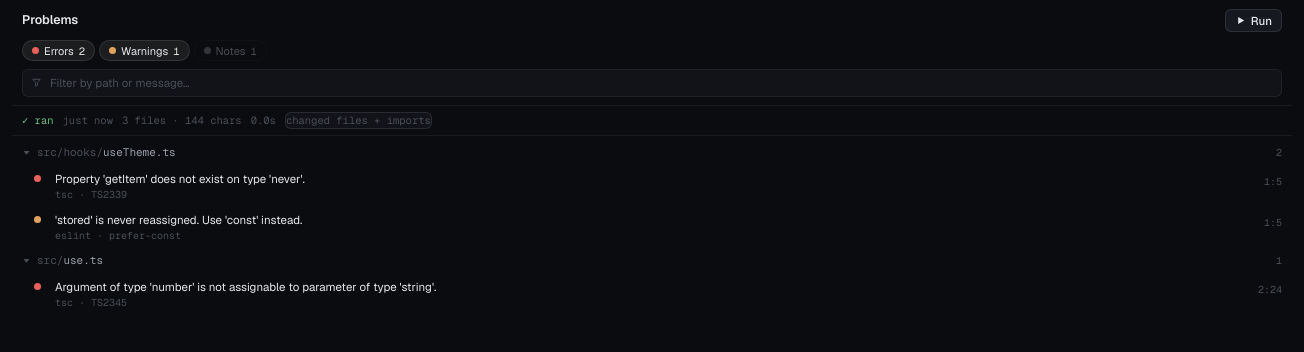
Test: ProblemsPanel › G-TOOL-7 — the chips count problems, never notes; notes are off by default and toggle on
Expected: the list is shown, [12,140,1292,315]
Expected: the text "coverage note" is not shown
Click the button "Notes 1" at (230,50), box [194,40,267,61]
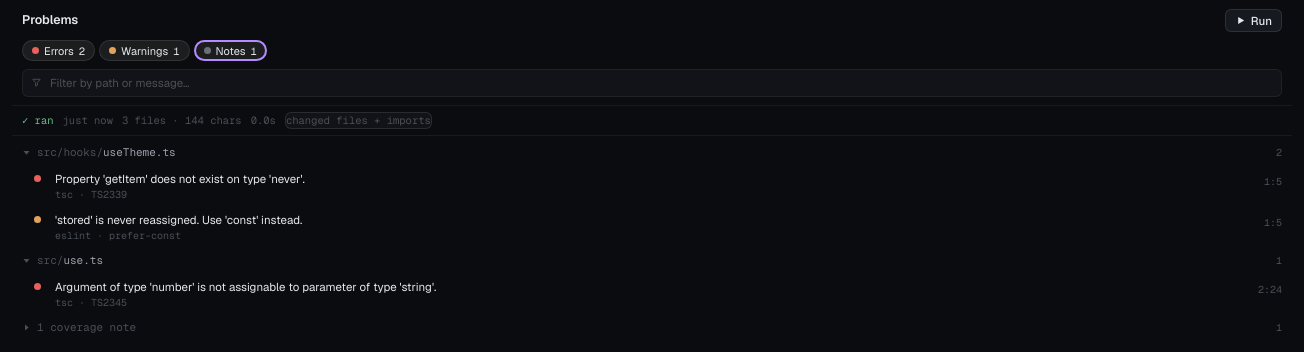
Expected: the text "1 coverage note" is shown, [37,320,136,336]
Click the button "Errors 2" at (58,50), box [22,40,95,61]
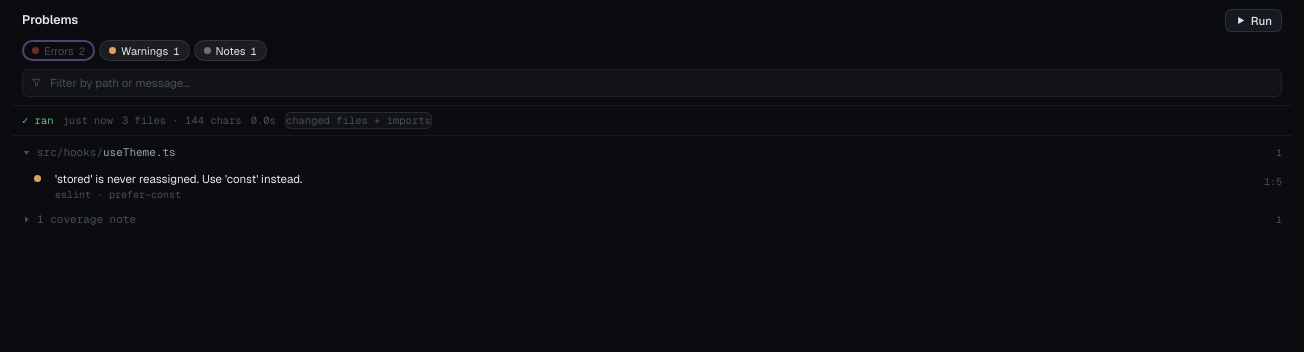
Expected: the option "TS2345" is gone
